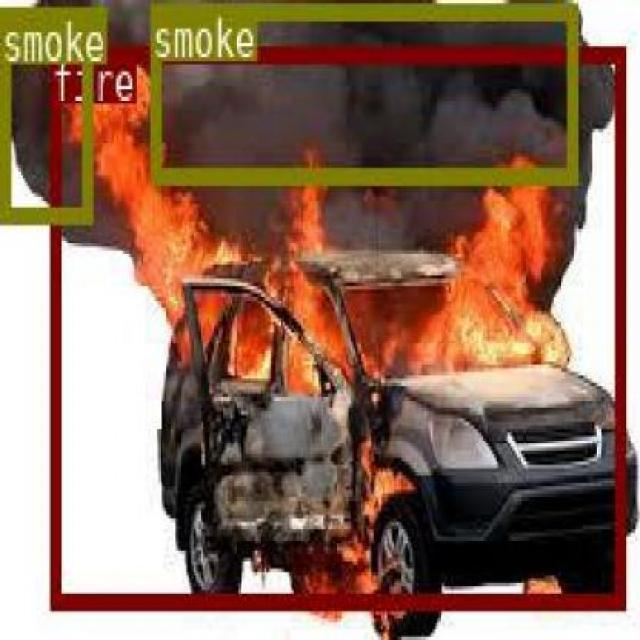Fire: (48, 45, 622, 608)
Smoke: (150, 1, 575, 180), (0, 3, 89, 222)
